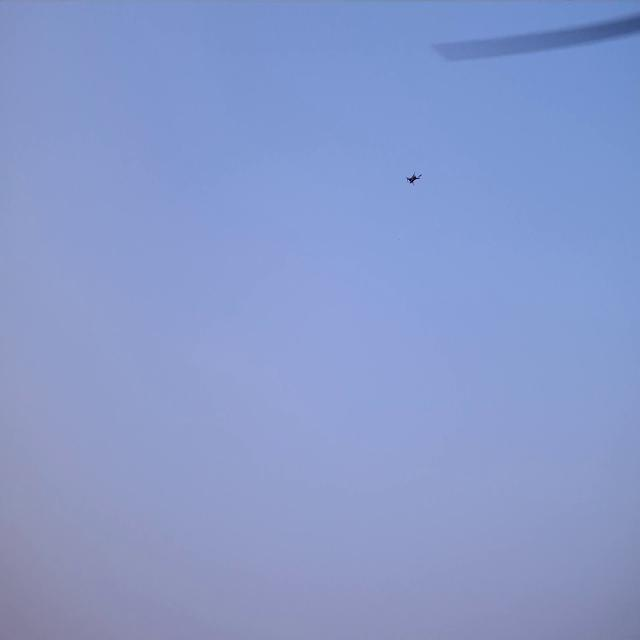UAV: (407, 174, 420, 183)
